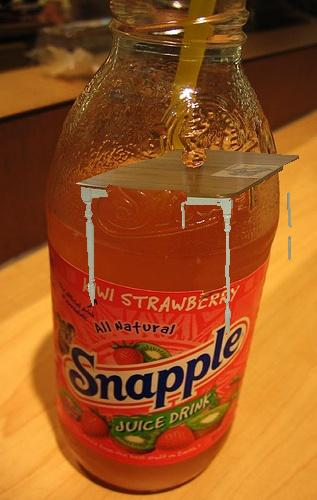tampered: (77, 150, 299, 333)
